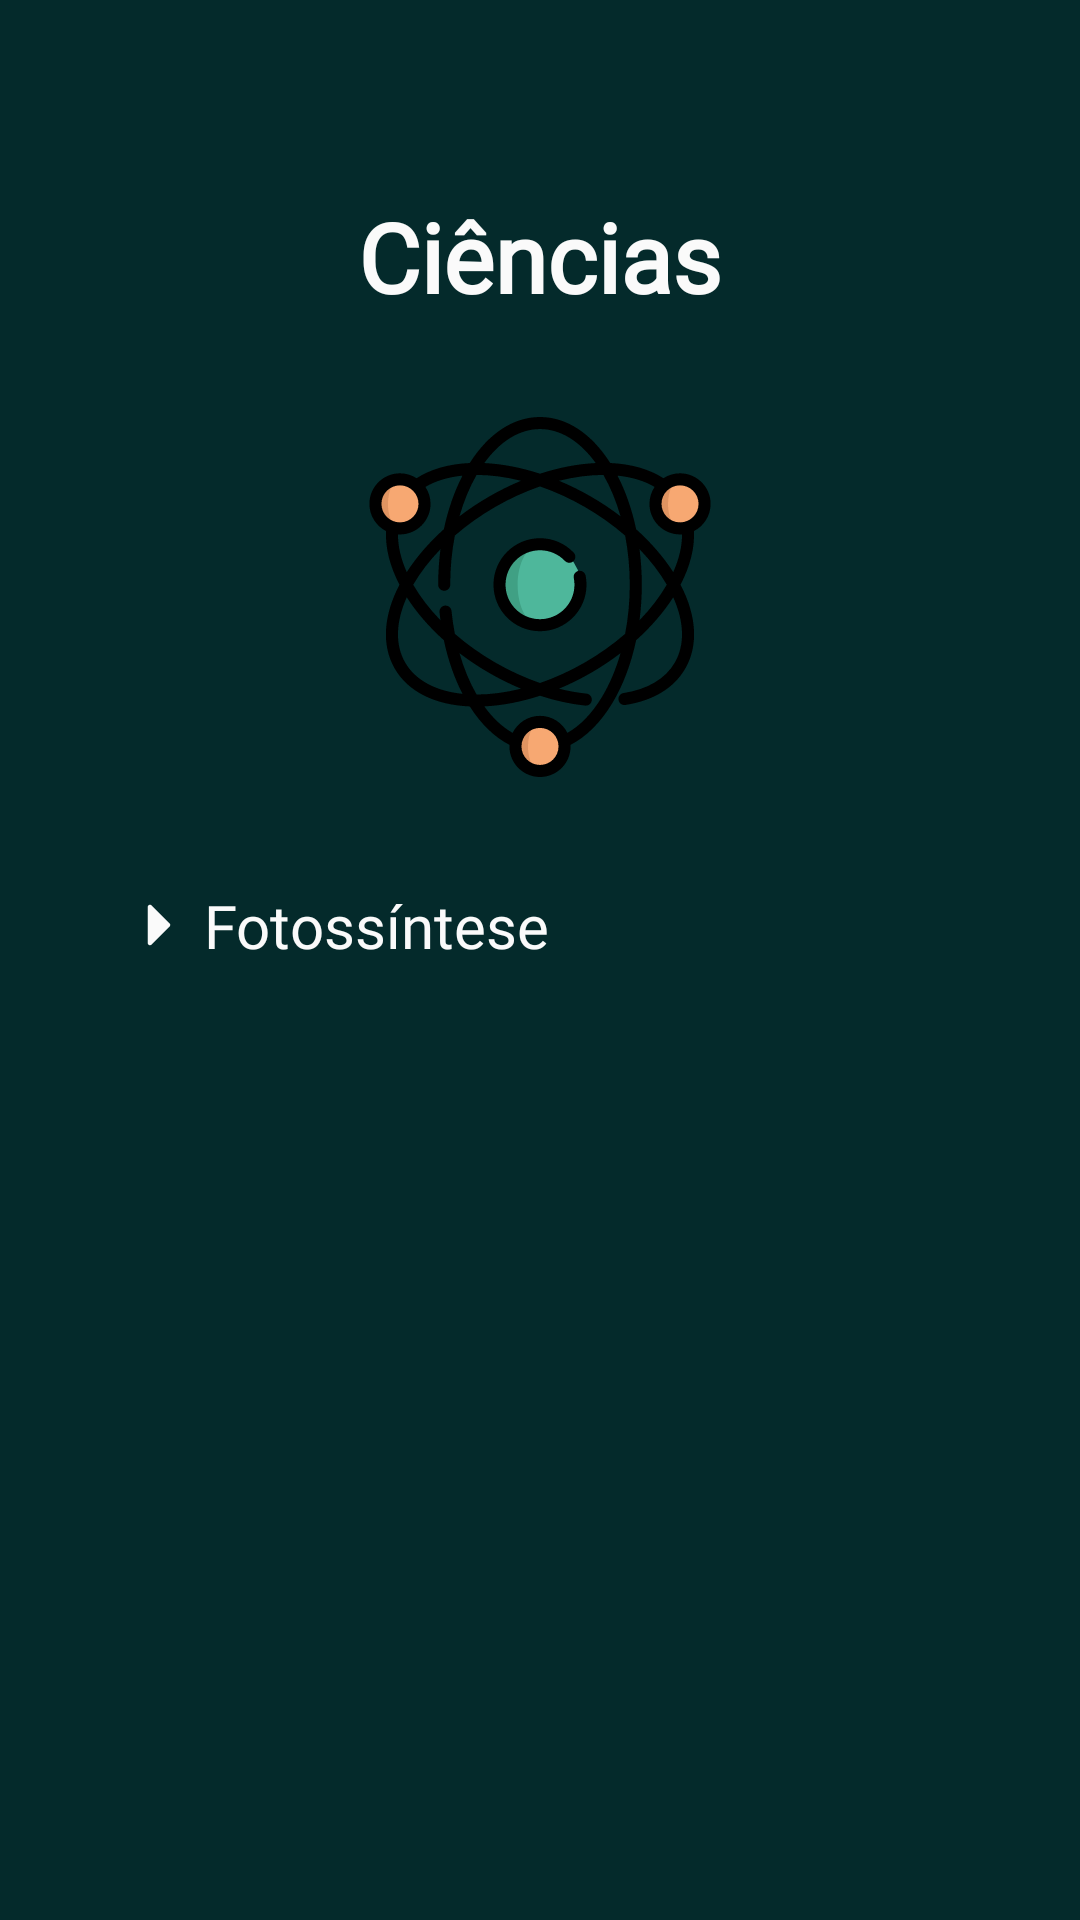

Where icons sit on this 1080px×1920px app screen, as (x1, y1, x2, y2):
arrow right: (147, 904, 171, 946)
physics: (370, 417, 710, 777)
